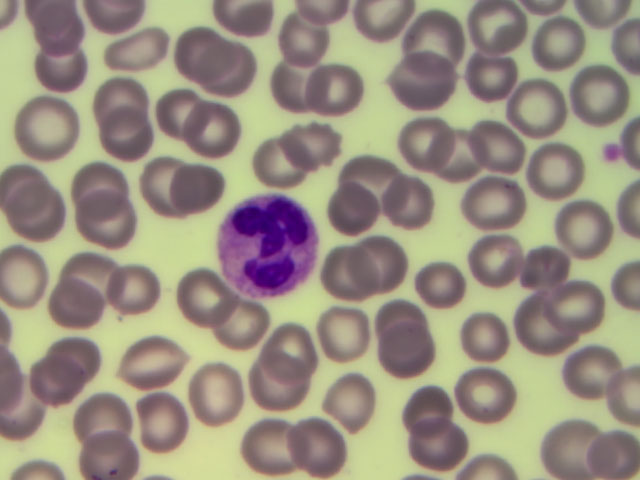Platelets: (596, 137, 625, 167)
RBC: (531, 15, 589, 73), (77, 422, 134, 480), (33, 38, 90, 95), (109, 16, 166, 73), (91, 66, 148, 123), (101, 106, 158, 163), (21, 98, 78, 155), (4, 158, 61, 215), (11, 189, 68, 246), (73, 190, 130, 247), (71, 154, 128, 211), (122, 155, 179, 212), (166, 166, 223, 223), (187, 106, 244, 163), (151, 88, 208, 145), (195, 43, 252, 100), (175, 21, 232, 78), (274, 8, 331, 65), (269, 59, 326, 116), (302, 57, 359, 114), (291, 117, 348, 174), (241, 132, 298, 189), (347, 145, 404, 202), (331, 173, 388, 230), (384, 172, 441, 229), (362, 236, 419, 293), (315, 240, 372, 297), (315, 306, 372, 363), (263, 310, 320, 367), (254, 357, 311, 414), (217, 298, 274, 355), (177, 262, 234, 319), (108, 262, 165, 319), (61, 247, 118, 304), (53, 272, 110, 329), (4, 243, 61, 300), (58, 327, 115, 384), (31, 354, 88, 411), (71, 383, 128, 440), (136, 387, 193, 444), (125, 339, 182, 396), (187, 367, 244, 424), (247, 412, 304, 469), (284, 415, 341, 472), (318, 371, 375, 428), (393, 373, 450, 430), (415, 416, 472, 473), (456, 367, 513, 424), (458, 306, 515, 363), (382, 322, 439, 379), (373, 290, 430, 347), (410, 255, 467, 312), (468, 232, 525, 289), (517, 231, 574, 288), (550, 272, 607, 329), (508, 297, 565, 354), (560, 336, 617, 393), (583, 420, 640, 477), (550, 418, 607, 475), (556, 201, 613, 258), (530, 144, 587, 201), (465, 172, 522, 229), (472, 122, 529, 179), (434, 127, 491, 184), (390, 114, 447, 171), (398, 58, 455, 115), (406, 7, 463, 64), (464, 46, 521, 103), (511, 78, 568, 135), (570, 67, 627, 124), (469, 1, 530, 54), (29, 1, 90, 54), (1, 384, 57, 441)
WBC: (218, 195, 324, 303)
